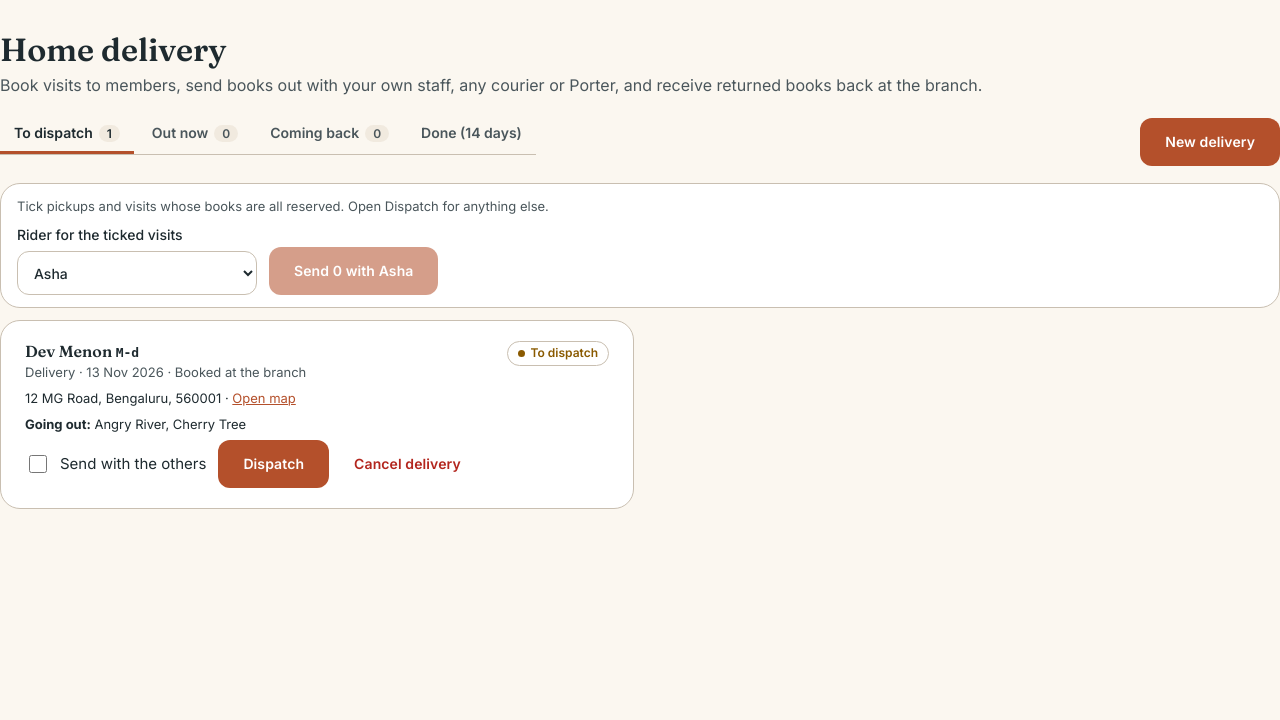
it: dispatching › shows the form of a delivery while its reserved books are read, then adds them to what was scanned
Later steps or results of the test are not shown.
Click the button "Dispatch". click: (274, 464)
box: [218,440,329,488]
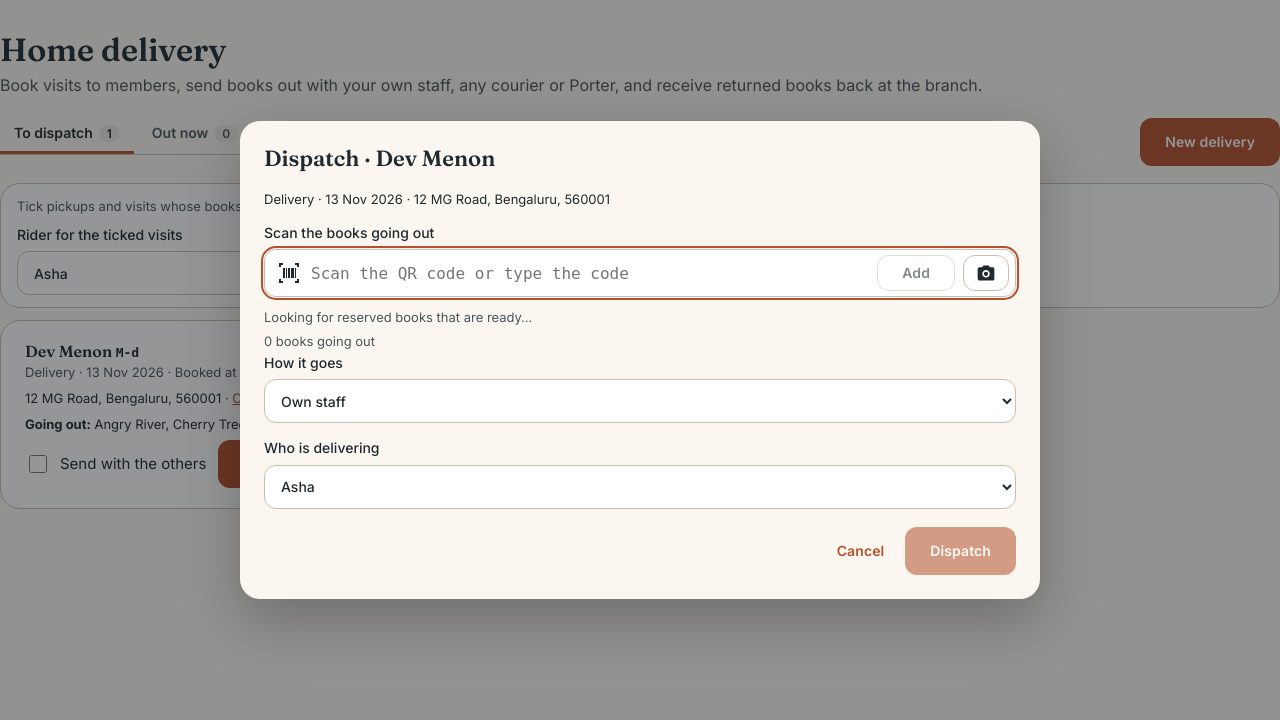
Check: the dropdown labelled "How it goes" is shown, box [264,379,1016,423]
Check: the text "Looking for reserved books that are ready…" is shown, box [264,309,532,325]
Check: the button "Dispatch" is disabled, box [905,527,1016,575]
Type "c-extra" into the field labelled "Scan the books going out". click: (589, 273)
box: [309,250,869,296]
Then press Enter
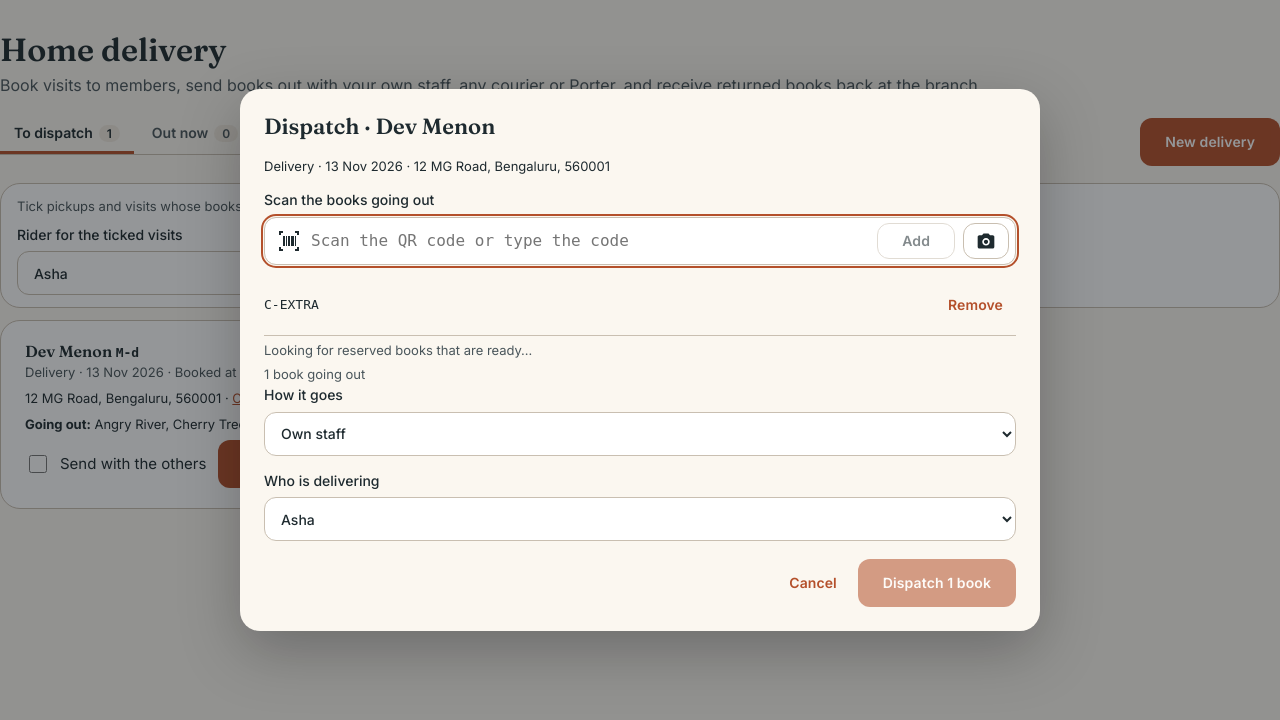
Type "C-H1" into the field labelled "Scan the books going out". click: (589, 241)
box: [309,218,869,264]
Then press Enter
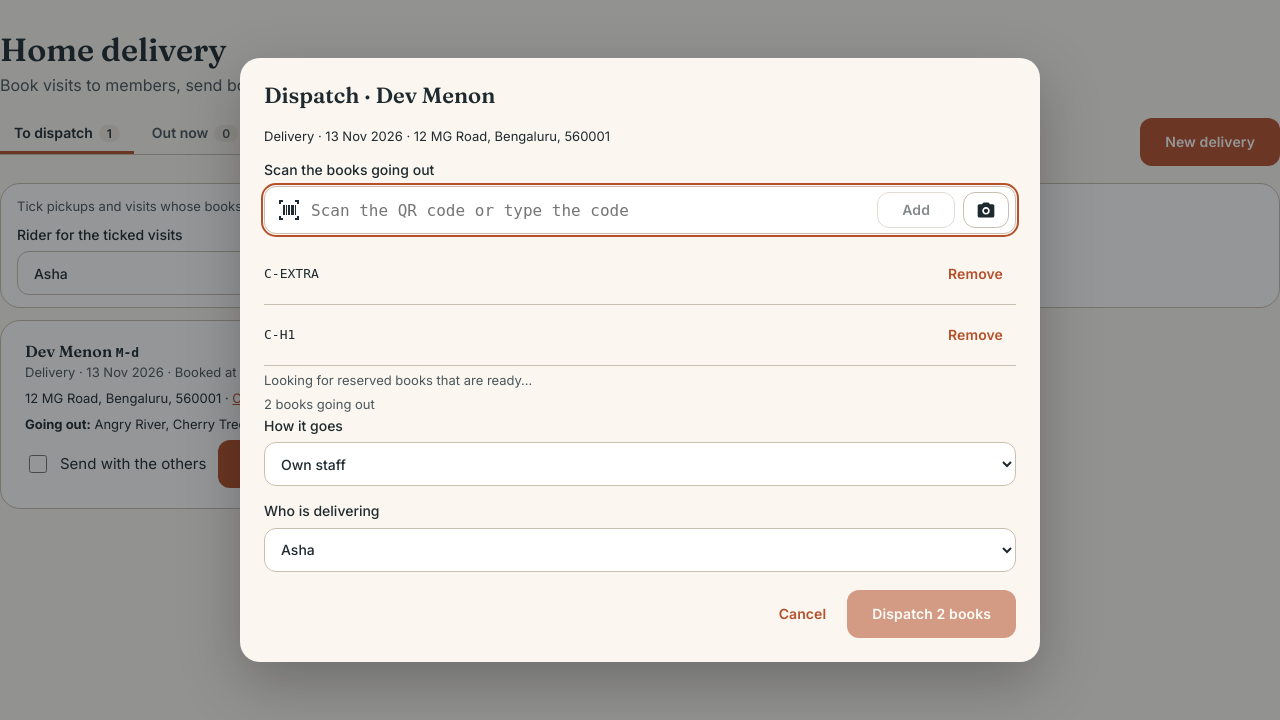
Click the button "Remove" in the row of "C-H1". click: (976, 335)
box: [935,311,1016,359]
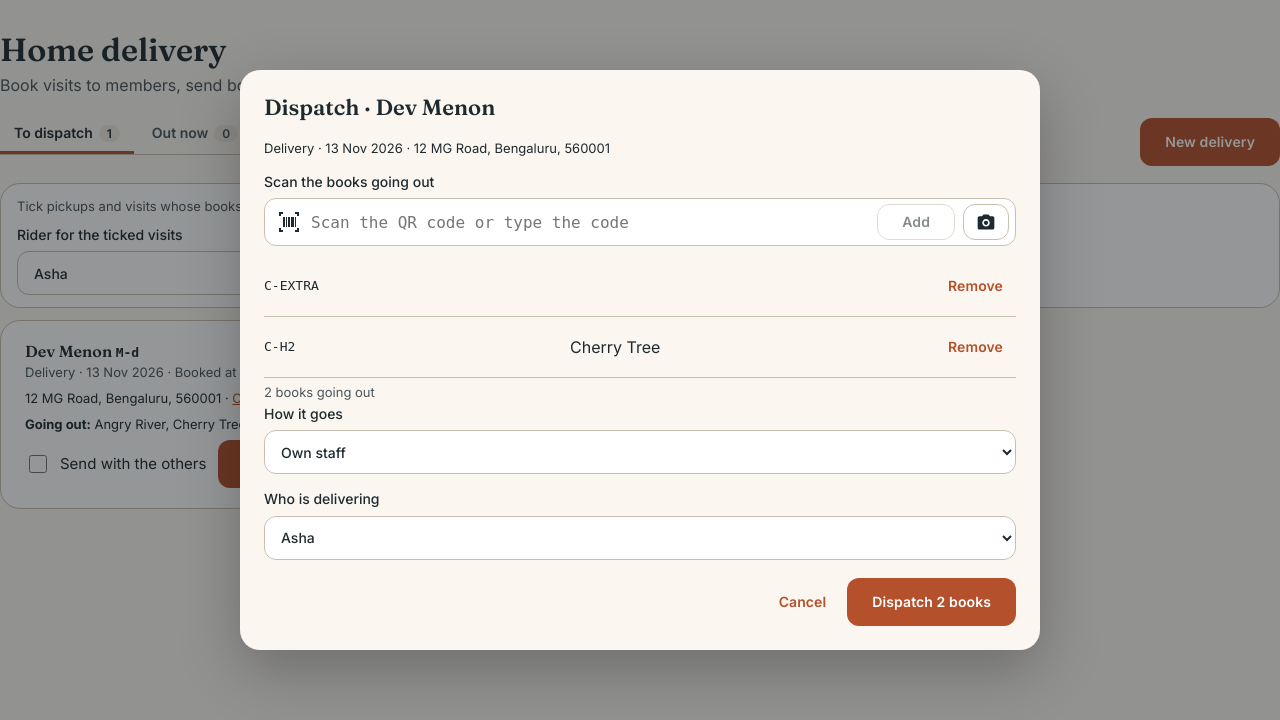
Check: the text "Looking for reserved books that are ready…" is gone
Check: the list item "Cherry Tree" is shown, box [570,337,660,357]
